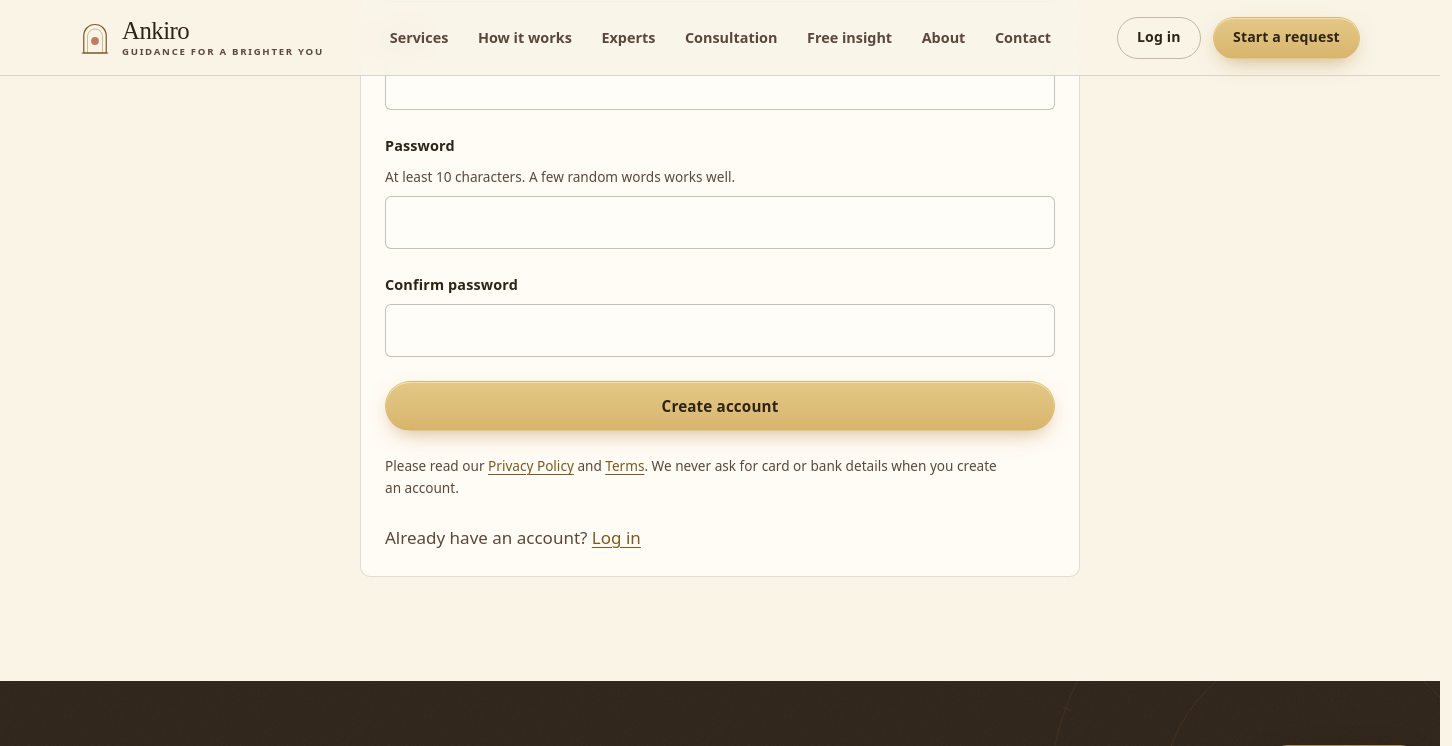
it: sign-up › explains each mistake and does not contact the service
(page scrolled)
Click the button "Create account".
click(720, 406)  # box top-left (385, 381), bottom-right (1055, 431)
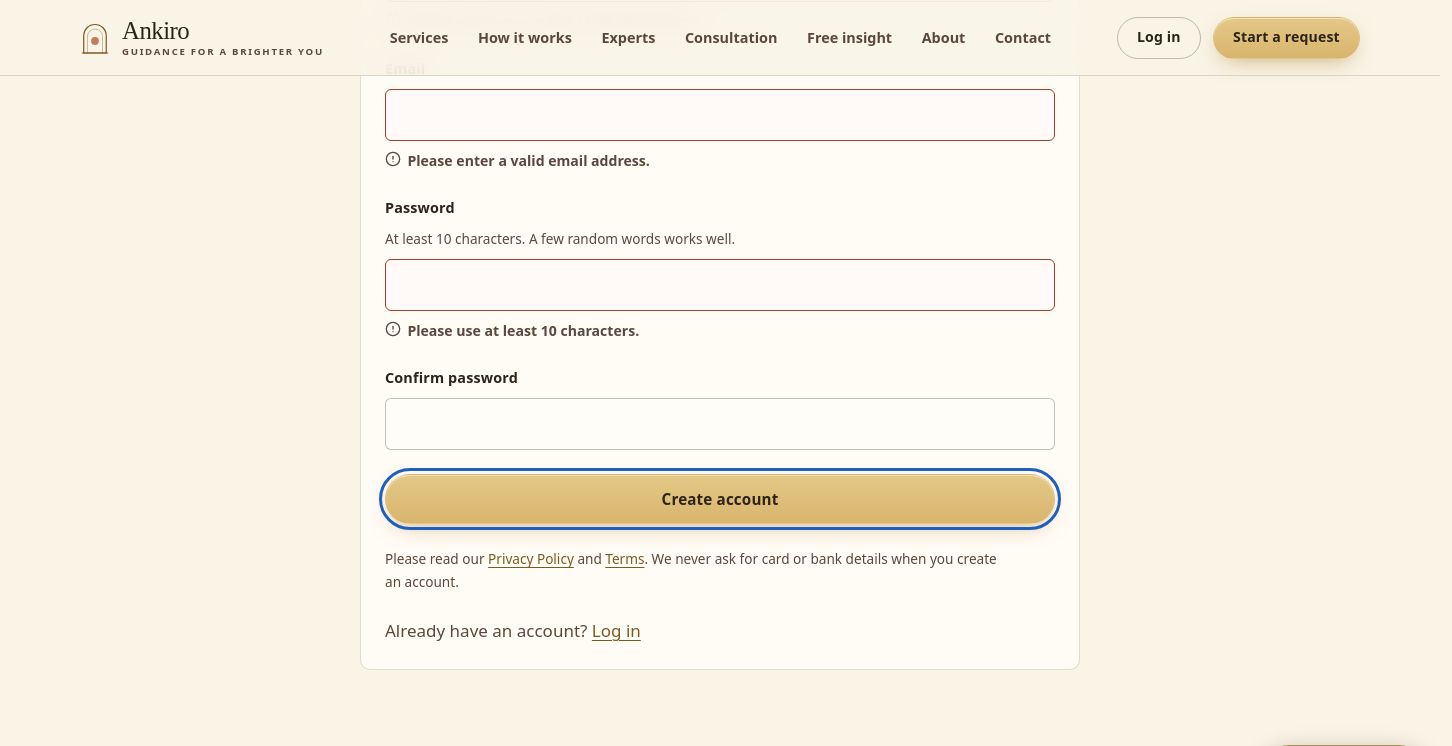
Expected: the text "Please enter your name (2–80 characters)." is shown, top-left (407, 10), bottom-right (701, 33)
Expected: the text "Please enter a valid email address." is shown, top-left (407, 149), bottom-right (650, 172)
Expected: the text "Please use at least 10 characters." is shown, top-left (407, 319), bottom-right (639, 342)
